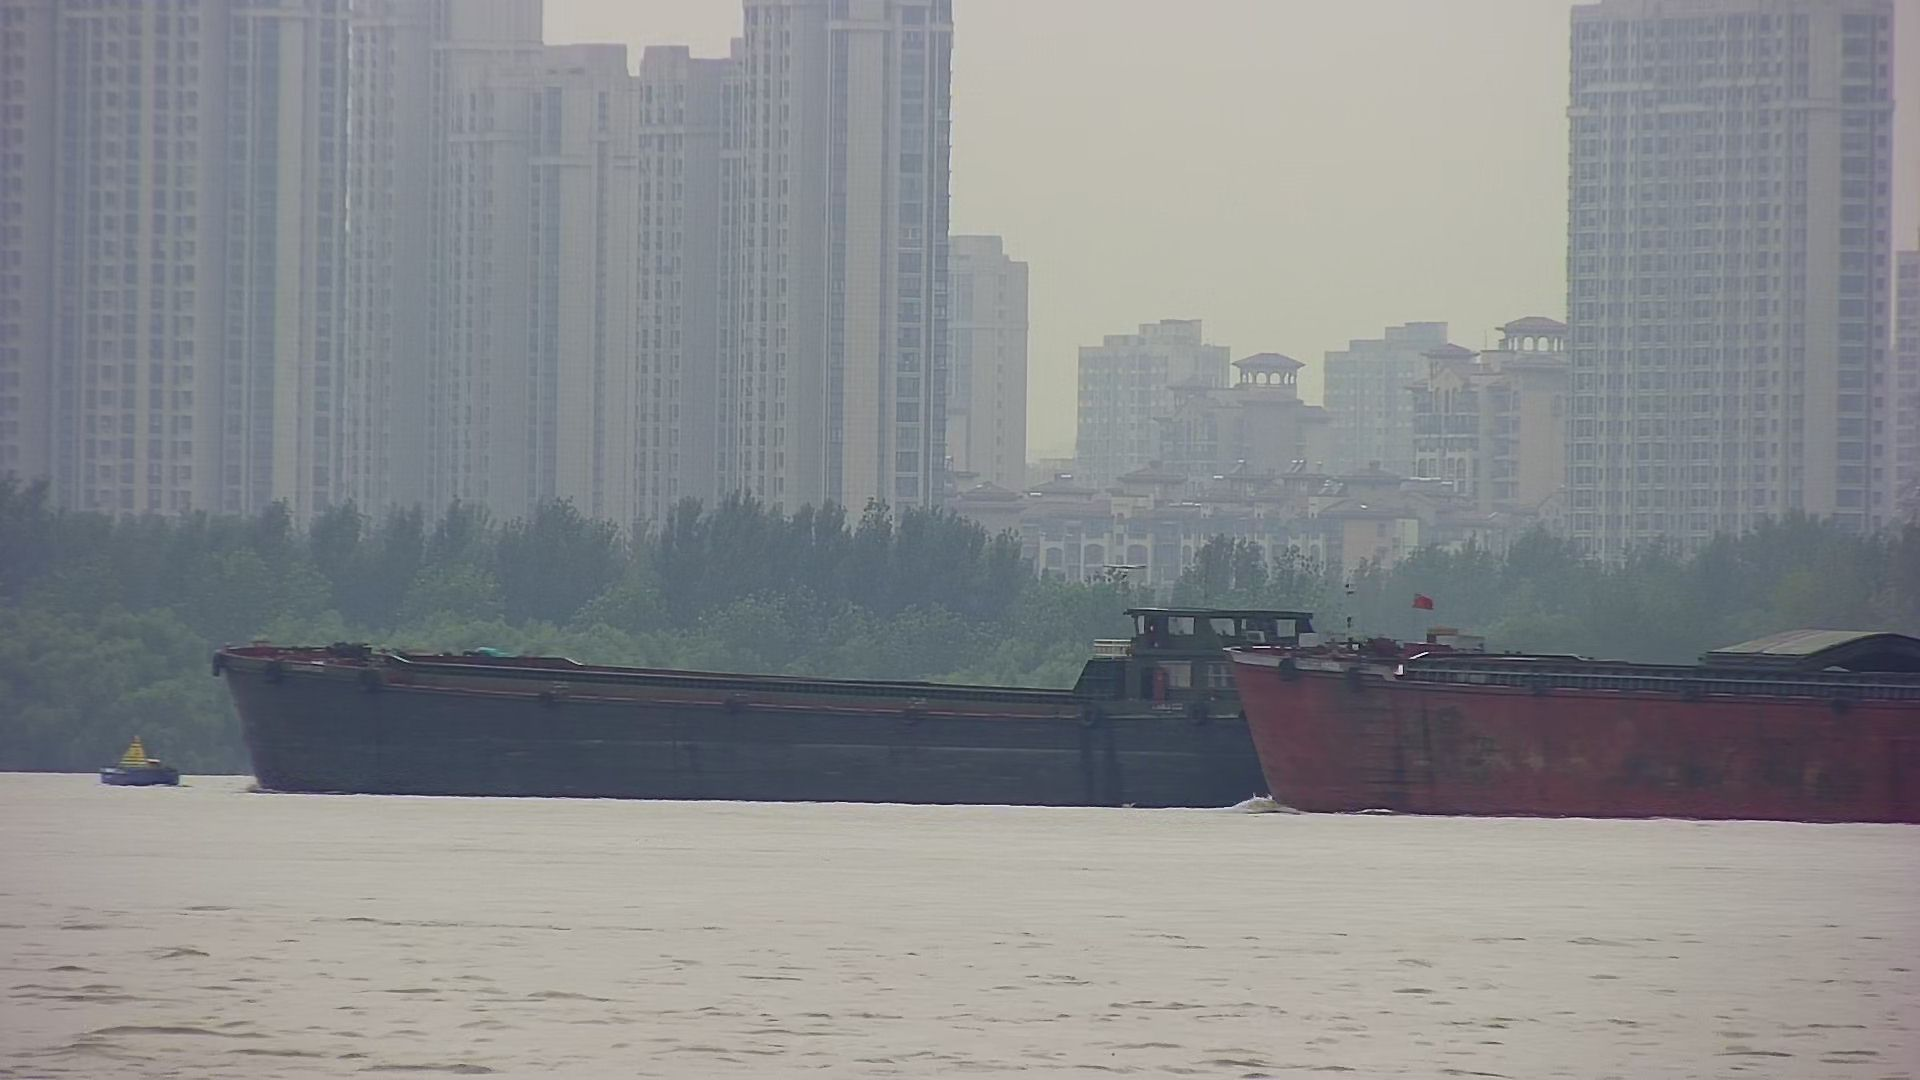boat: (87, 735, 177, 790)
ship: (218, 593, 1345, 822), (1222, 579, 1920, 829)
